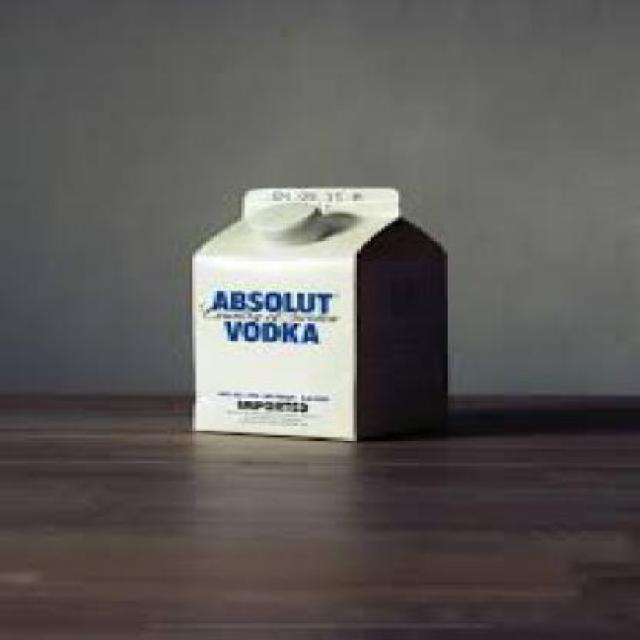drink carton: (192, 188, 449, 441)
plastic bottle cap: (248, 200, 321, 242)
